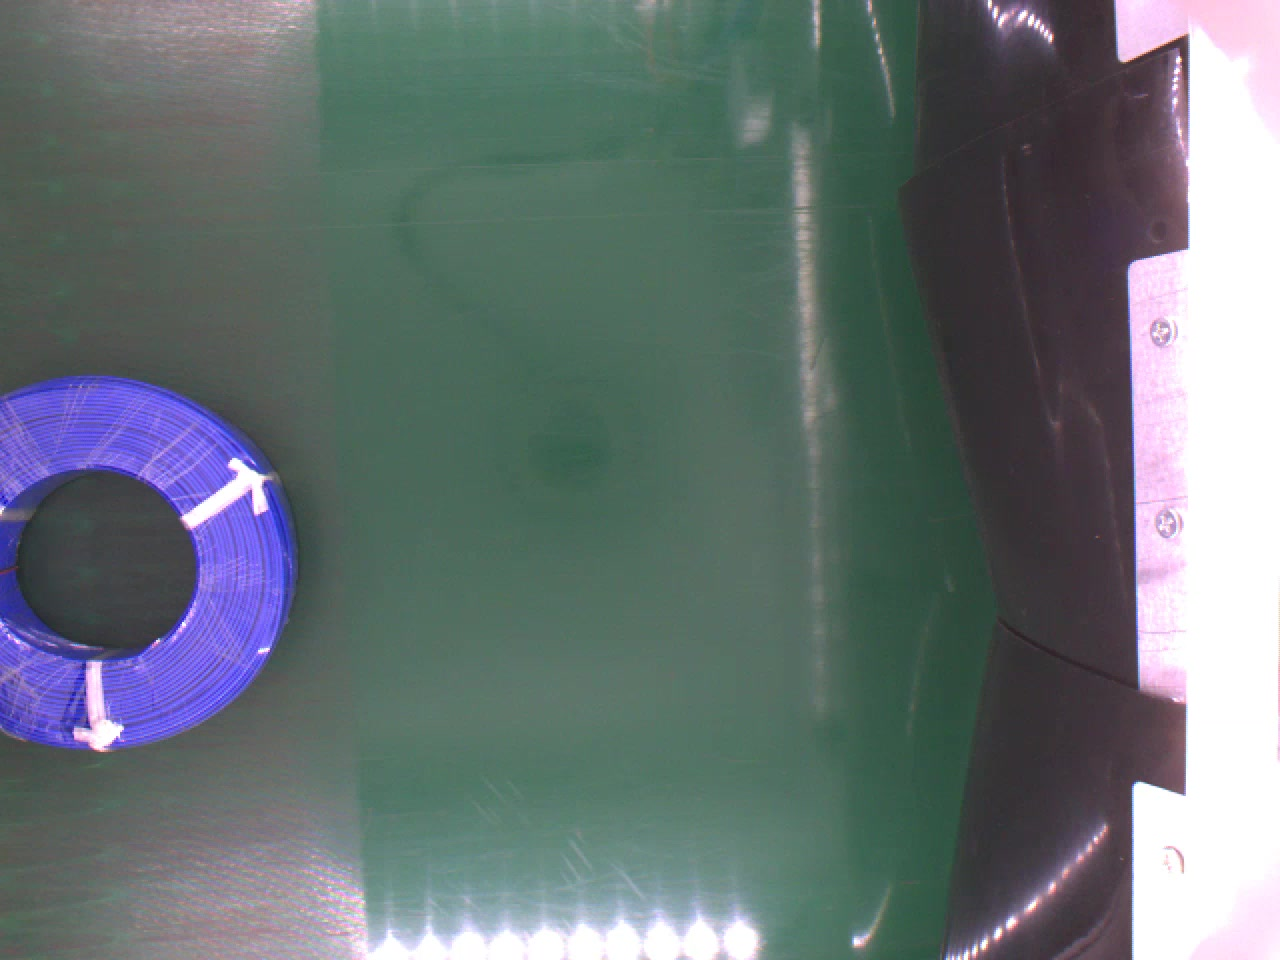blue: (0, 374, 298, 752)
